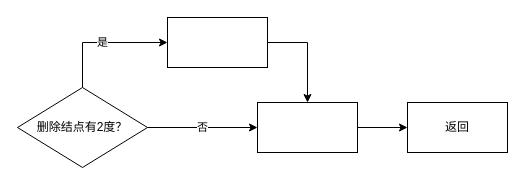
Image size: 525x185. Some labels were removed from this diagram. Here are the shapes that lost their labels. From the top down, the centre of each, then its label:
point 217,42: 转成1度
point 307,127: 叶子颜色叠加到 根节点
